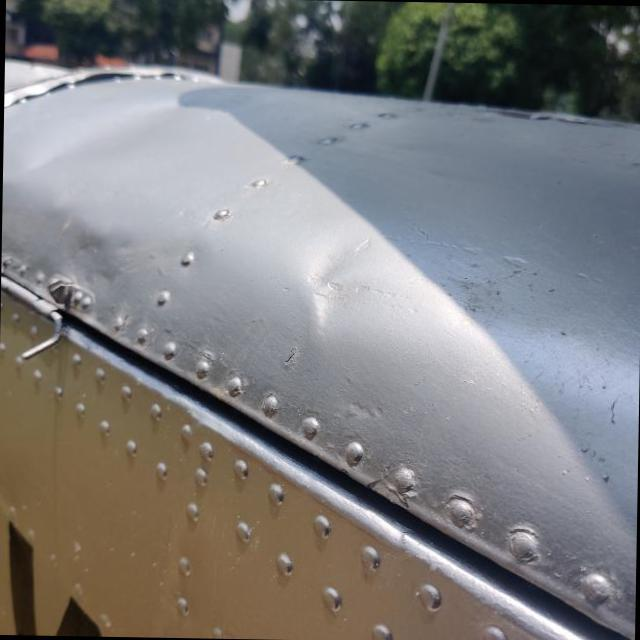Dent: (277, 210, 407, 354)
